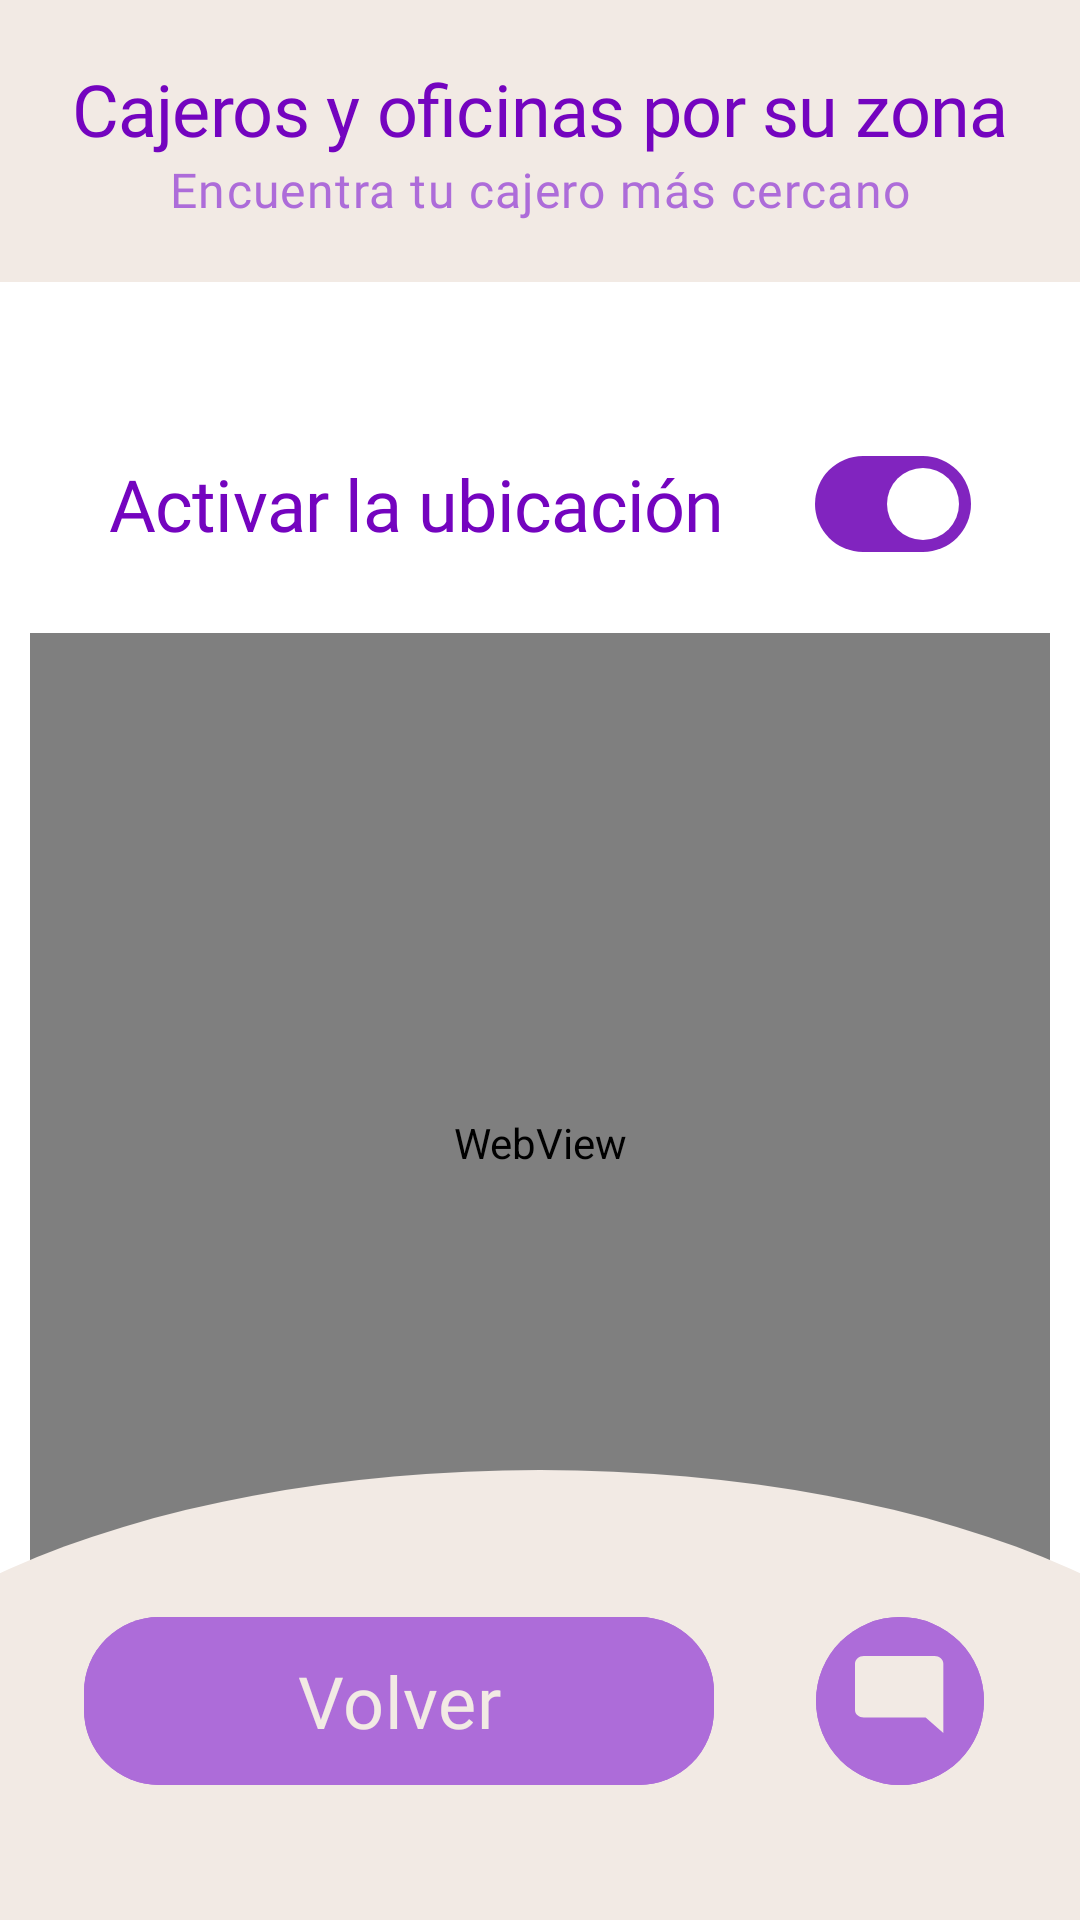

Icons on this 1080 × 1920 Android screen, each with the point to tap as point (x, y):
chat: point (900, 1701)
